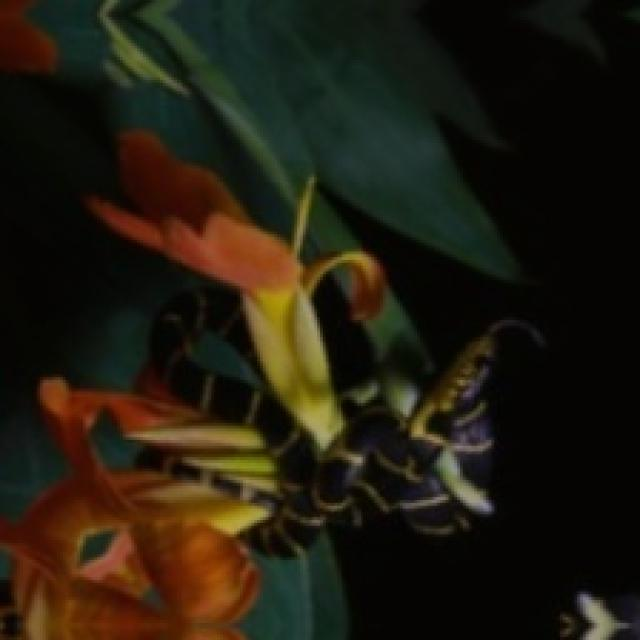mangrove cat snake: (129, 286, 494, 554)
